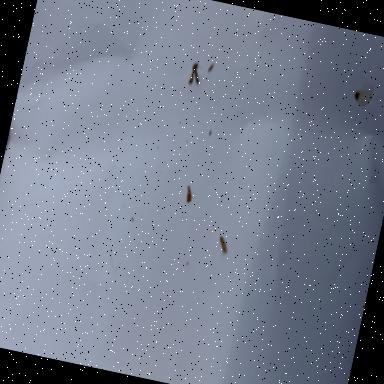pbw: (216, 236, 229, 254), (184, 186, 193, 204)
